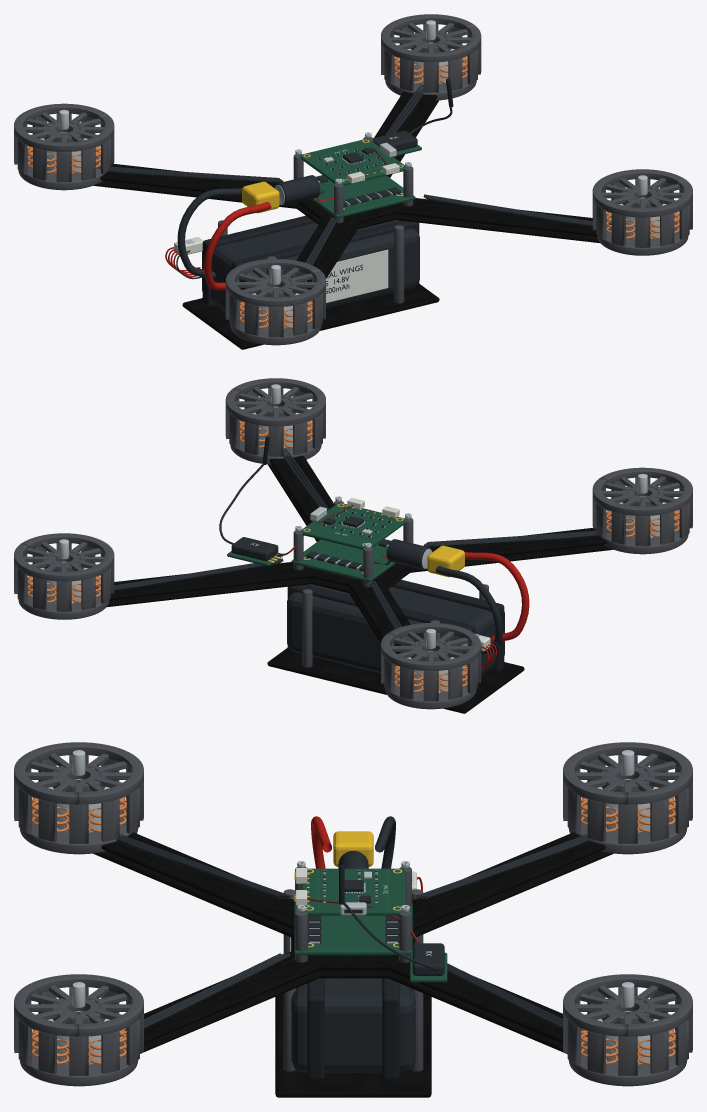
Rendered from SM_EquipmentAssembly.glb.
3 renders of one model, top to bottom at view 1: azimuth 30°, elevation 25°; view 2: azimuth 150°, elevation 25°; view 3: azimuth 270°, elevation 25°, orthographic. The views are drawn at different scales.
Parts seen in each view (by area): view 1: SM_EquipmentAssembly; view 2: SM_EquipmentAssembly; view 3: SM_EquipmentAssembly.
Part boxes in pixels (x1=…): SM_EquipmentAssembly: x1=14, y1=14, x2=692, y2=349; SM_EquipmentAssembly: x1=14, y1=378, x2=692, y2=713; SM_EquipmentAssembly: x1=14, y1=742, x2=692, y2=1097.
Bounding box in the file's own units: 0.2351 × 0.0972 × 0.235.
Materials: 14 (1 with a texture image).
